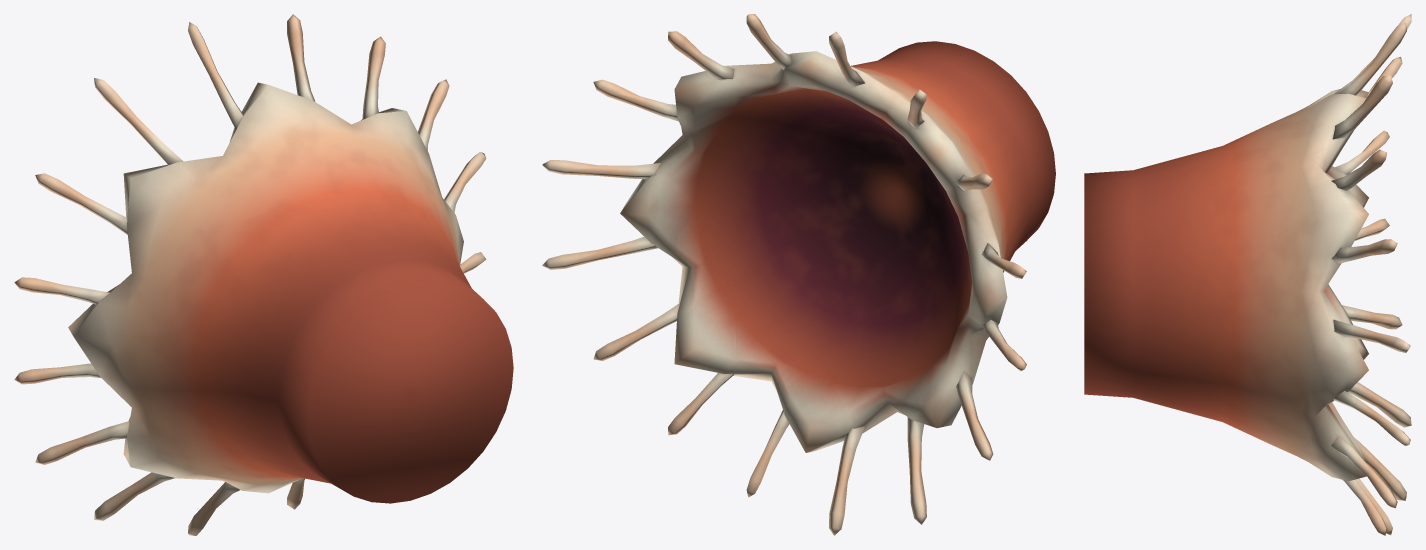
File: part_mouth_filter.glb
The picture shows the model from 3 angles, left to right: view 1: azimuth 30°, elevation 25°; view 2: azimuth 150°, elevation 25°; view 3: azimuth 270°, elevation 25°; orthographic projection. The views are drawn at different scales.
Visible parts, largest first — view 1: MouthFilter; view 2: MouthFilter; view 3: MouthFilter.
Part boxes in pixels (box(x1,y1,x2,y2)): MouthFilter: box(14, 14, 513, 535); MouthFilter: box(542, 14, 1055, 535); MouthFilter: box(1084, 14, 1411, 535).
Bounding box in the file's own units: 0.3183 × 0.3246 × 0.201.
Materials: 1 (1 with a texture image).
